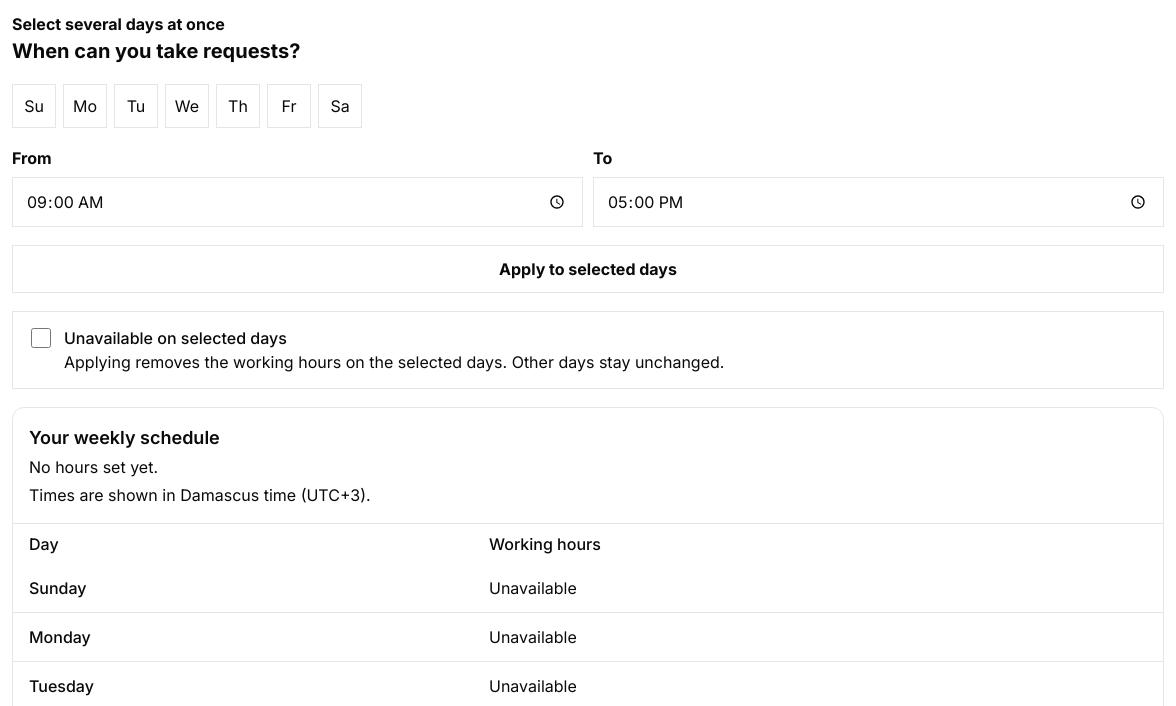
Test: states the API cannot persist are unreachable › refuses an inverted range and says so
This screenshot has width=1176, height=706.
Click the button with test id "day-toggle-0".
click(34, 106)  # box [12,84,56,128]
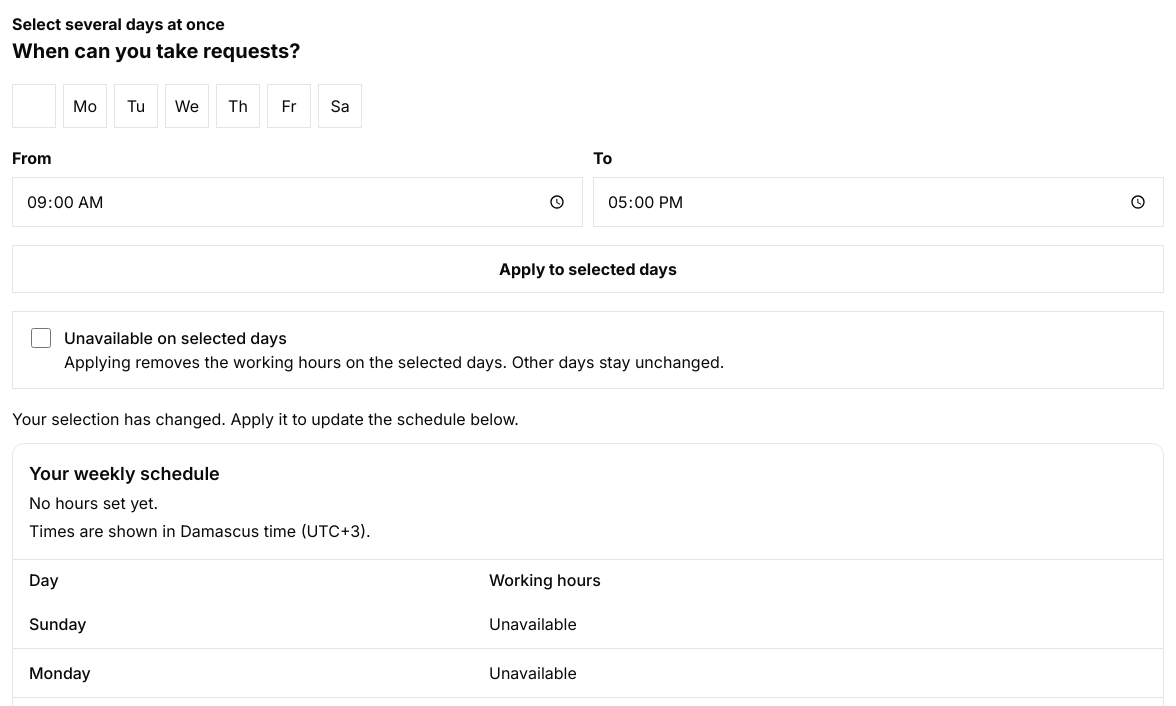
Replace the text in the time field with test id "bulk-start" with "18:00" at coordinates (298, 202), box [12,177,583,227]
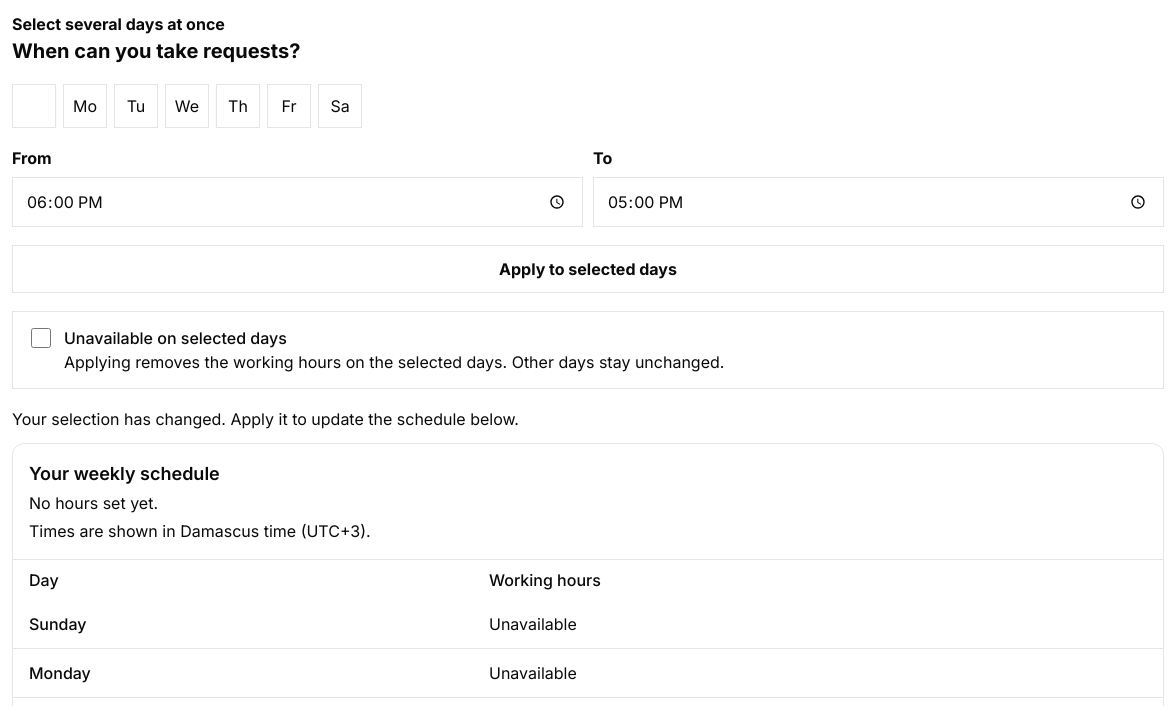
Replace the text in the time field with test id "bulk-end" with "09:00" at coordinates (878, 202), box [593,177,1164,227]
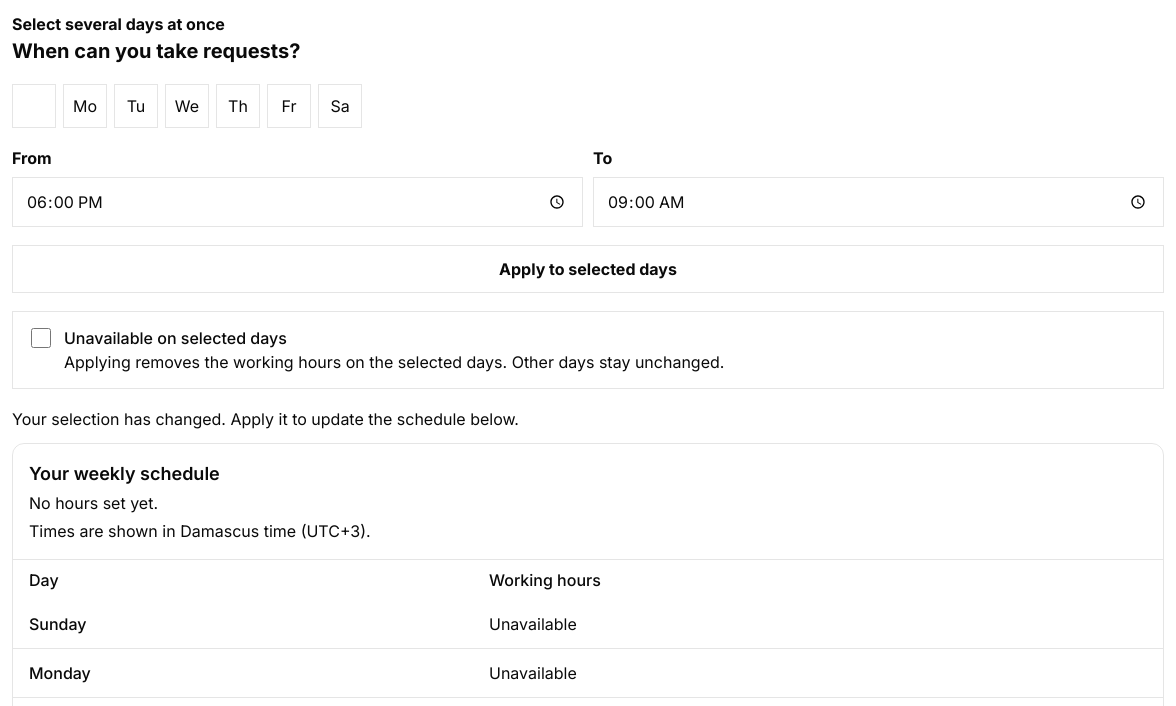
Click the button with test id "apply-to-selected".
click(588, 269)  # box [12,245,1164,293]
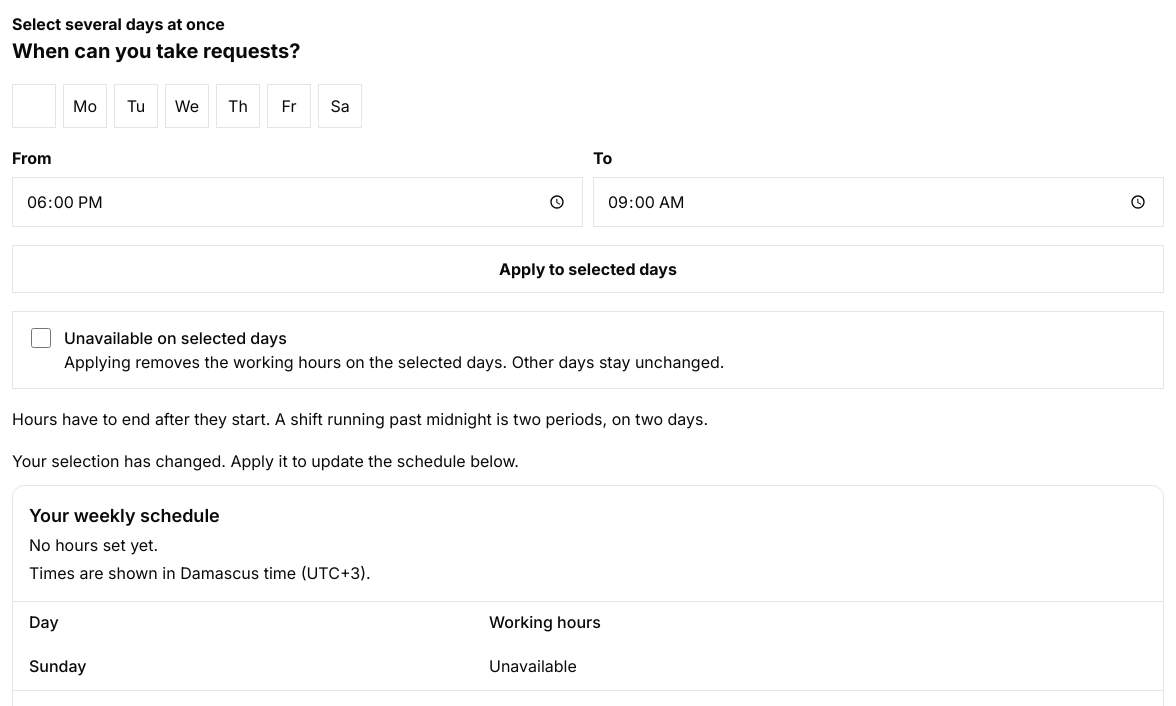
Check: the message with test id "availability-rejected" shows "Hours have to end after they start. A shift running past midnight is two periods, on two days.", box [12,409,708,429]
